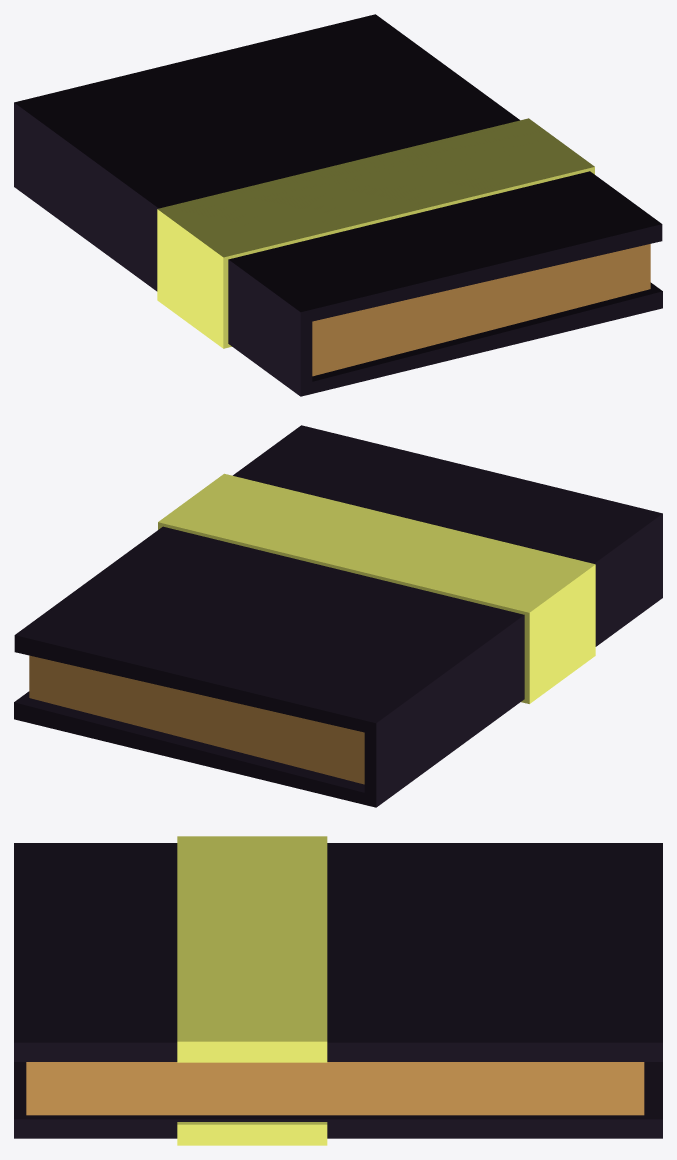
The model's file is Book 12.fbx.
The picture shows the model from 3 angles, top to bottom: view 1: azimuth 30°, elevation 25°; view 2: azimuth 150°, elevation 25°; view 3: azimuth 270°, elevation 25°; orthographic projection. The views are drawn at different scales.
Visible parts, largest first — view 1: Node 0; view 2: Node 0; view 3: Node 0.
Boxes of the visible parts, left/top/right/bottom form: Node 0: left=14, top=14, right=662, bottom=396; Node 0: left=14, top=425, right=662, bottom=807; Node 0: left=14, top=836, right=662, bottom=1145.
Size of the model in its own units: 0.274 by 0.0482 by 0.2054.
